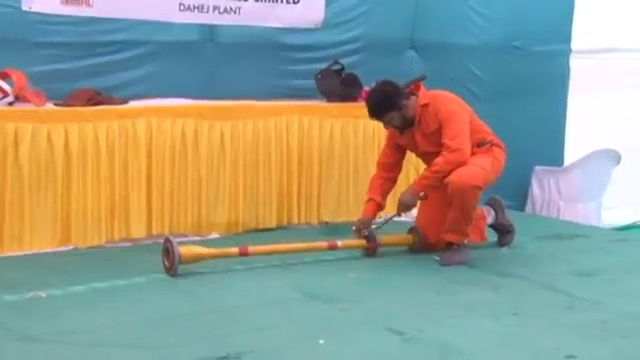helmet_off: (365, 80, 415, 129)
person: (360, 75, 517, 257)
